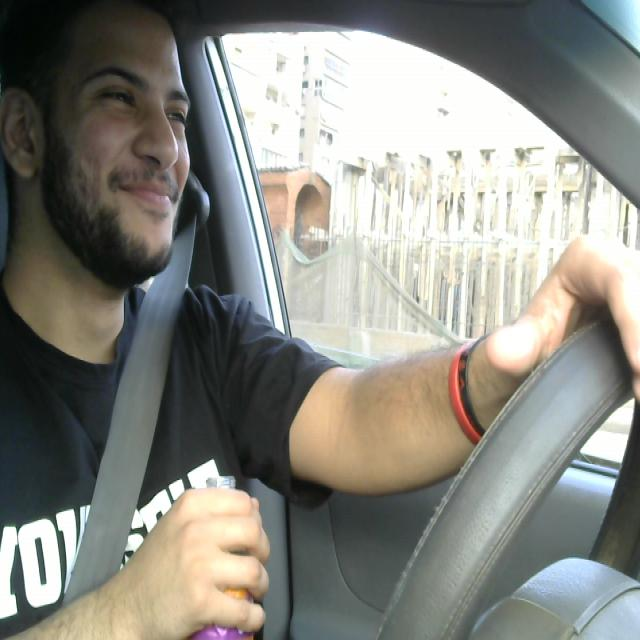drinking: (174, 473, 262, 640)
